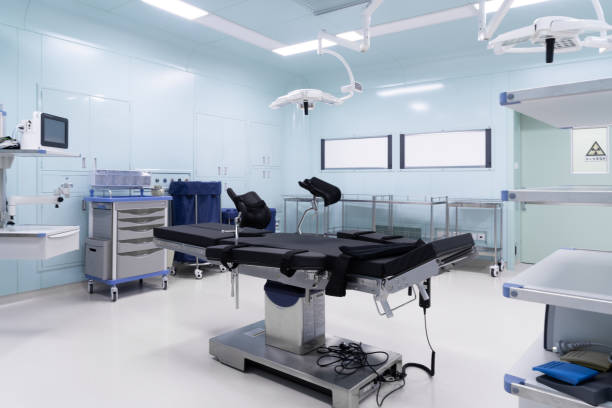bedside_monitor: (20, 110, 72, 153)
bedside_table: (500, 76, 612, 408)
handle: (49, 226, 80, 240)
medical_drawer: (86, 195, 171, 300)
operating_bed: (155, 220, 473, 408)
surgical_light: (486, 14, 611, 63), (264, 89, 353, 117)
utility_cart: (446, 199, 505, 277), (373, 195, 451, 244), (318, 196, 392, 233), (285, 195, 318, 235)
